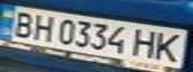0: (51, 16, 78, 47)
3: (72, 18, 93, 48), (90, 20, 109, 52)
4: (106, 24, 130, 55)
B: (6, 9, 39, 38)
H: (130, 27, 160, 60), (27, 11, 57, 42)
K: (151, 29, 187, 63)
